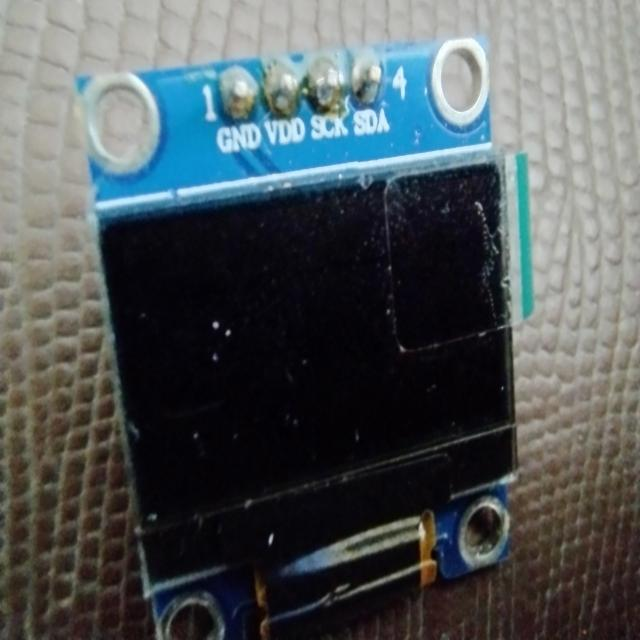oled: (79, 27, 537, 640)
